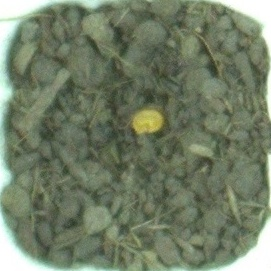chilli seed: (131, 108, 165, 135)
